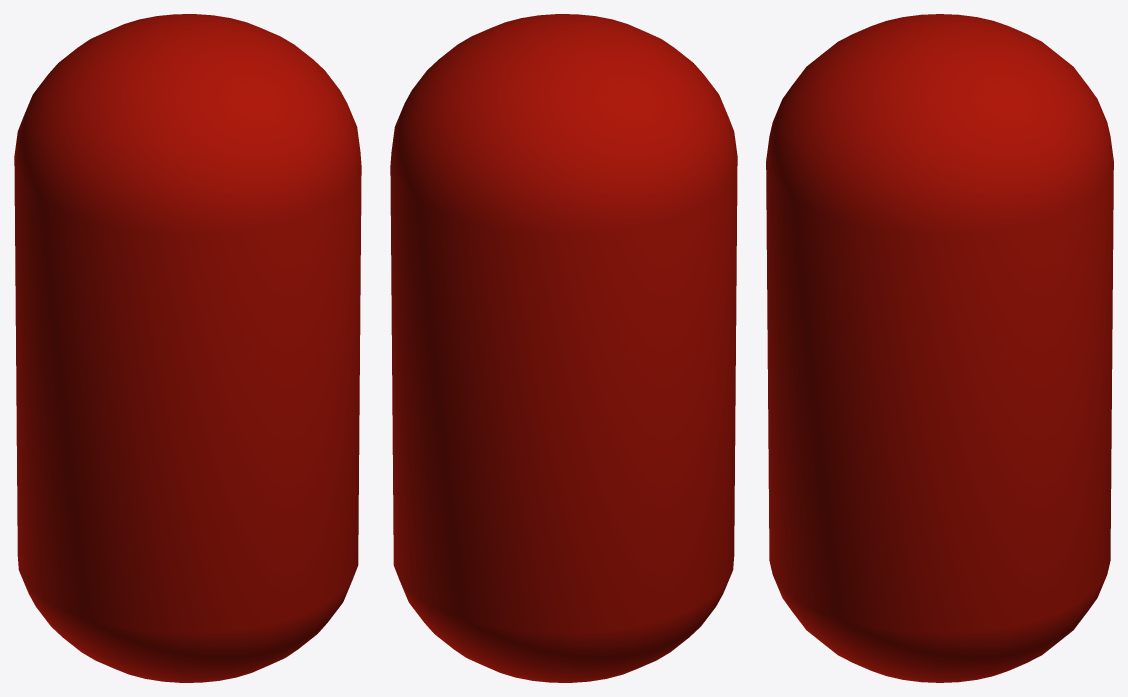
File: EnemyPlaceholder.fbx
3 renders of one model, left to right at view 1: azimuth 30°, elevation 25°; view 2: azimuth 150°, elevation 25°; view 3: azimuth 270°, elevation 25°, orthographic.
Parts seen in each view (by area): view 1: Sphere; view 2: Sphere; view 3: Sphere.
Part boxes in pixels (x1,y1,x2,y2): Sphere: (14, 14, 361, 682); Sphere: (390, 14, 737, 682); Sphere: (766, 14, 1113, 682).
Size of the model in its own units: 50 by 100 by 50.
